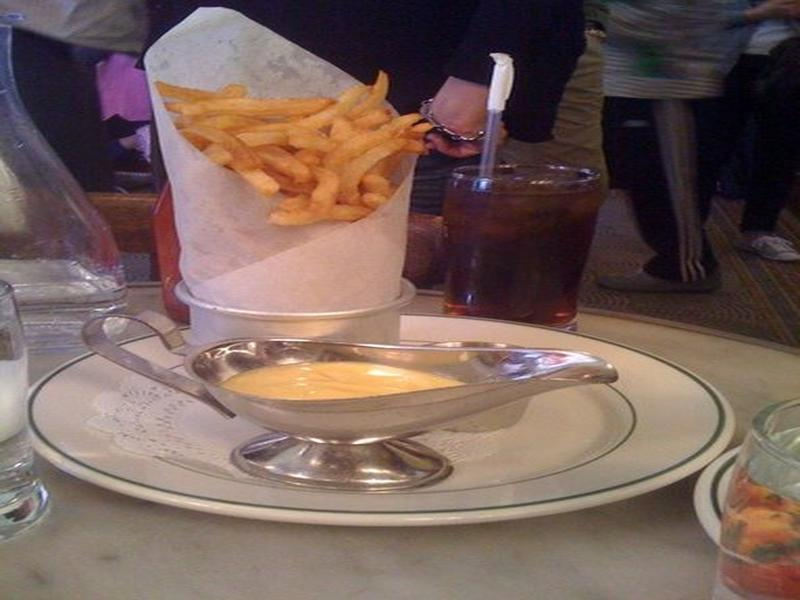french_fries: (135, 5, 471, 251)
